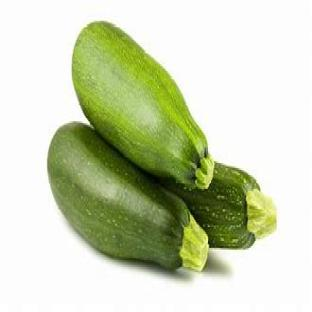Zucchini: (72, 23, 213, 188), (48, 124, 207, 270), (163, 163, 276, 247)
